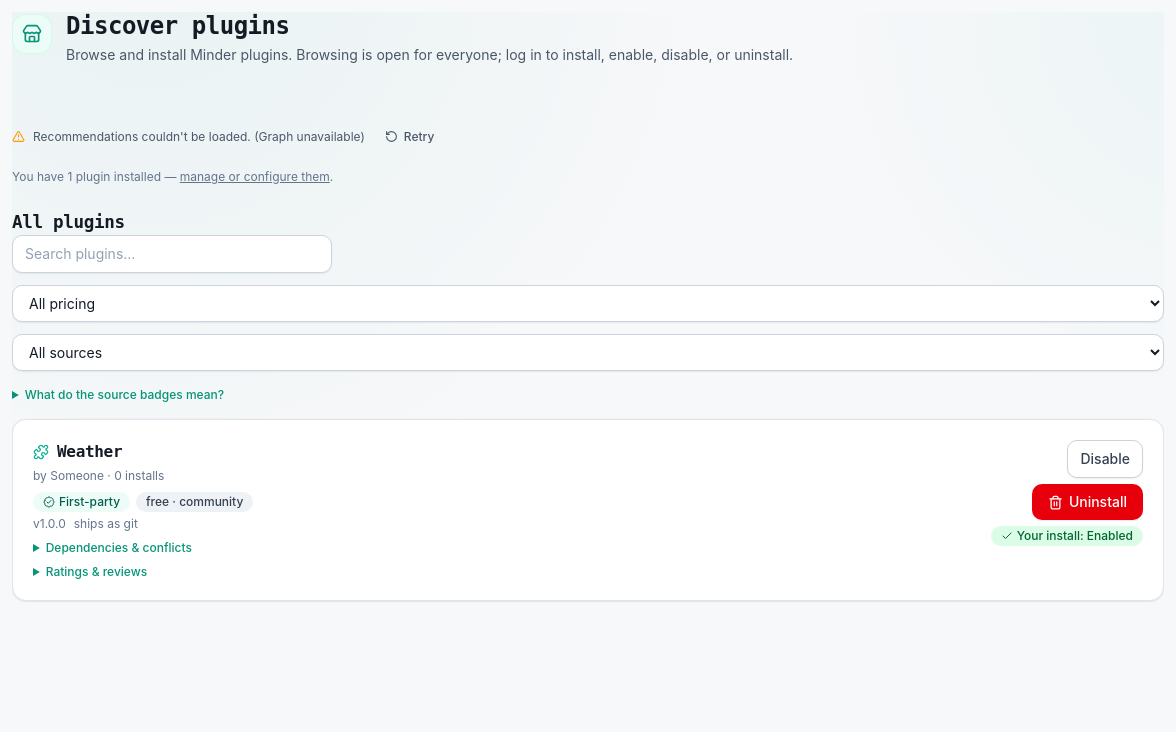
Test: Discover plugins: secondary failures stay quiet and recoverable › a recommendations failure shows a quiet notice with Retry
The width and height of the screenshot is (1176, 732).
Expected: the text "Recommendations couldn't be loaded. (Graph unavailable) Retry" is shown, [12,121,446,153]
Expected: the heading "Weather" is shown, [33,442,122,461]
Step 1. Click the button named "Retry loading recommendations" → (410, 137), box [373,121,446,153]
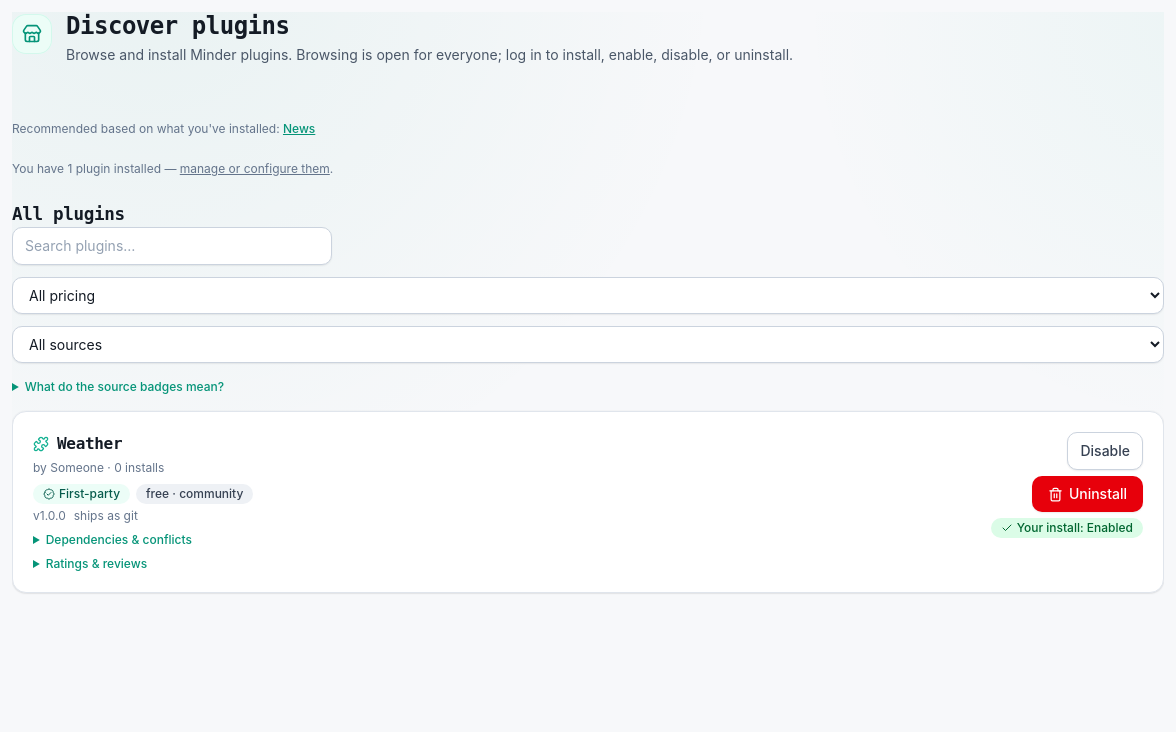
Result: the link "News" is shown at [283,121,315,136]
Result: the text "Recommendations couldn't be loaded" is gone
